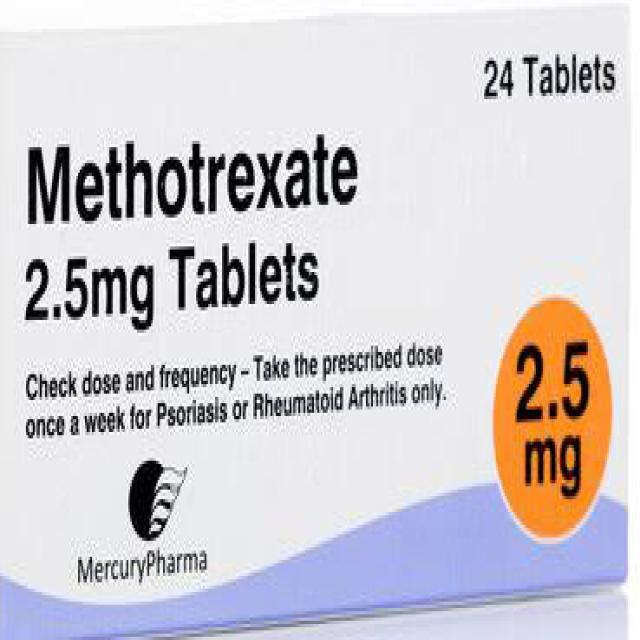drug-name: (21, 136, 362, 224)
